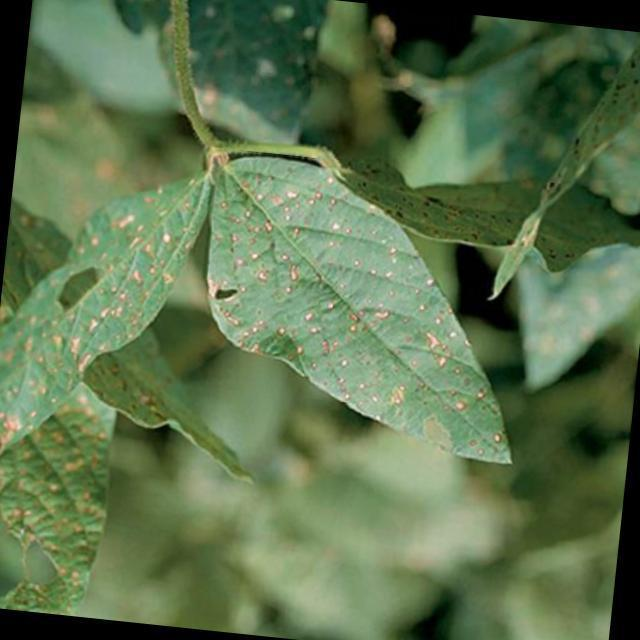Septoria: (198, 165, 546, 468), (0, 163, 203, 456)
